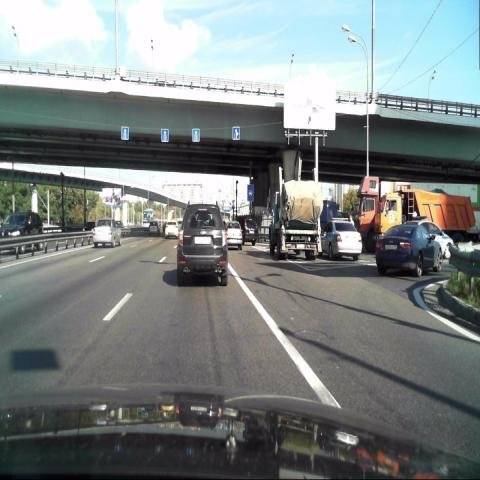5_15_2: (121, 126, 129, 140), (161, 129, 169, 142), (192, 129, 200, 142), (232, 126, 239, 138)
5_3: (247, 184, 253, 201)
